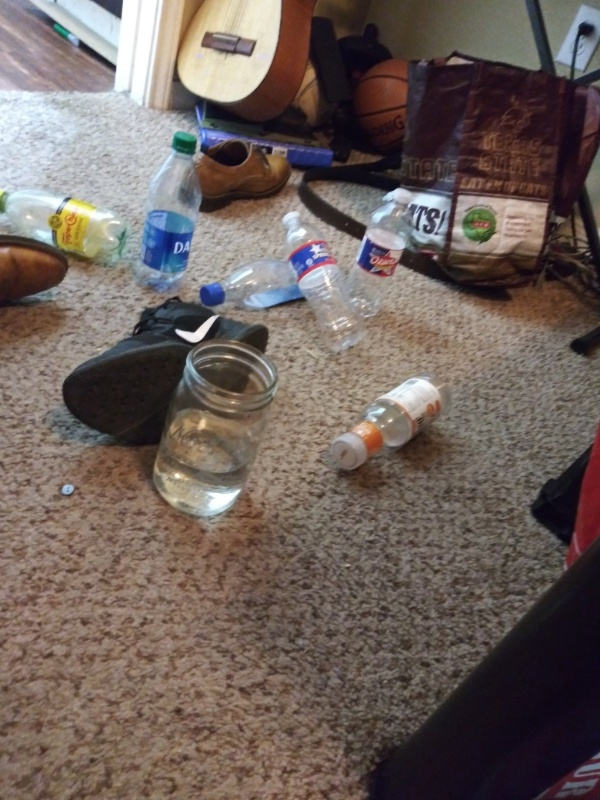bottle: (328, 368, 460, 476), (282, 206, 370, 353), (1, 183, 133, 272), (131, 131, 203, 293), (342, 182, 421, 322), (196, 254, 344, 309)
